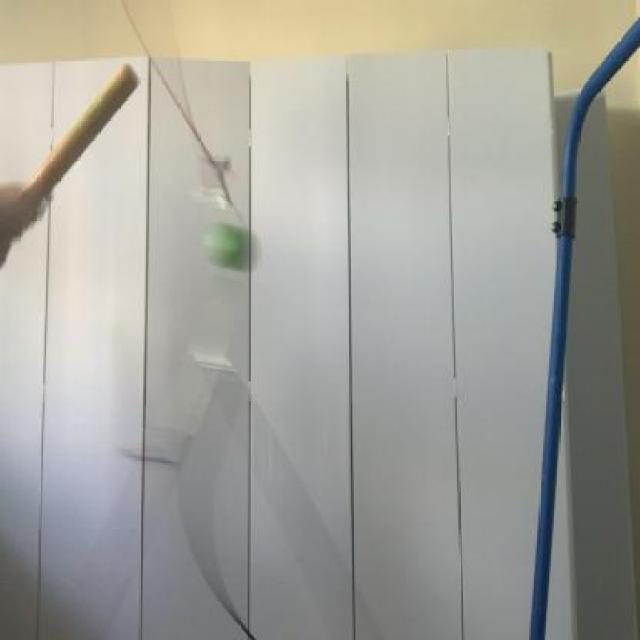baseball: (198, 208, 267, 281)
